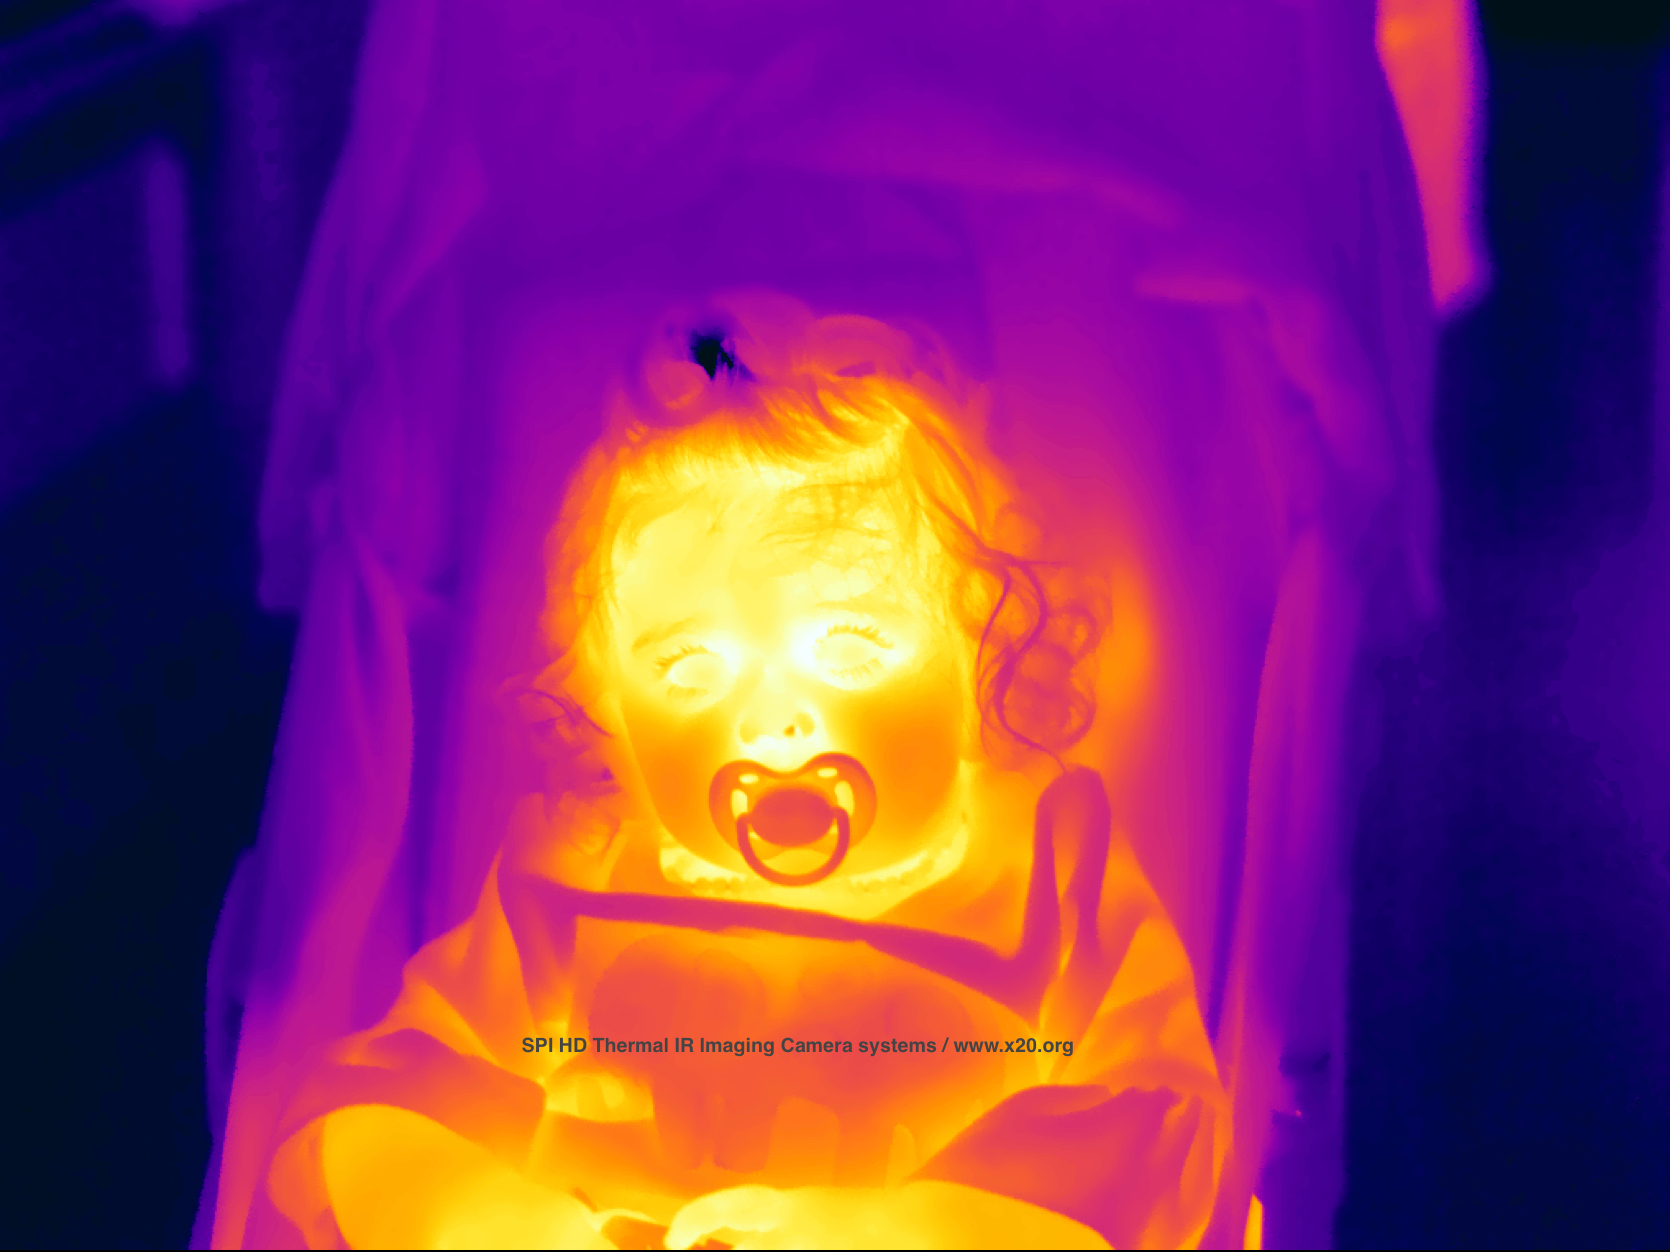person: (278, 309, 1297, 1252)
